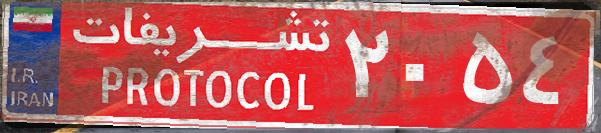0: (400, 20, 460, 115)
2: (340, 20, 400, 115)
4: (520, 20, 580, 115)
5: (460, 20, 520, 115)
تشریفات: (60, 8, 340, 125)
